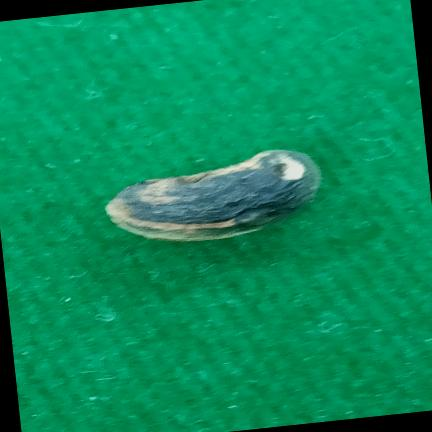partial-black: (106, 150, 321, 241)
